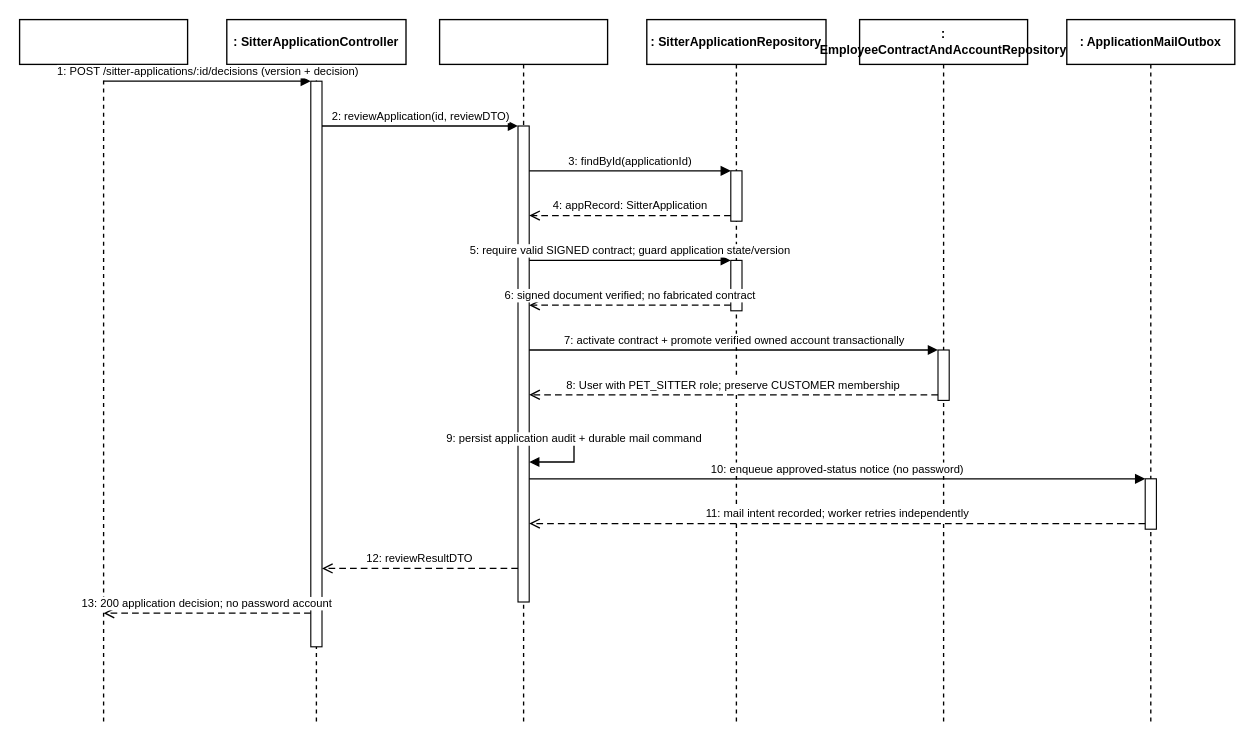
This 1256x746 diagram has some shape labels left out. Each missing label, with the box of its shape:
: SitterApplicationService: (438, 18, 608, 725)
Client (Admin): (18, 18, 188, 725)
